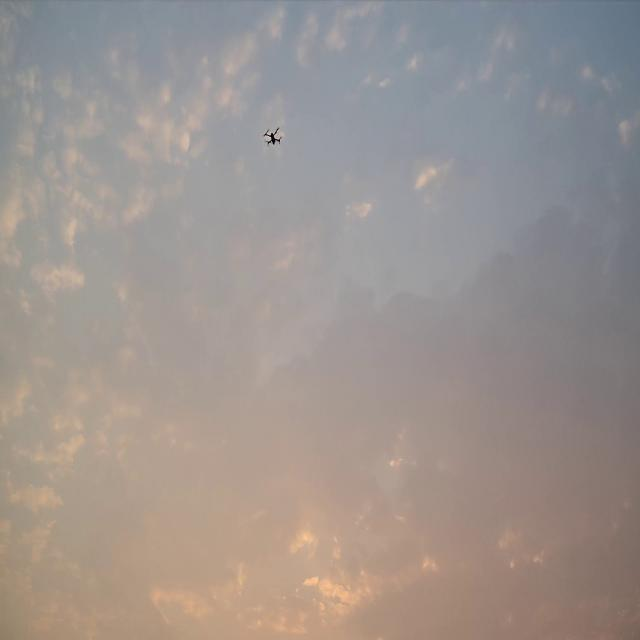UAV: (262, 126, 282, 147)
